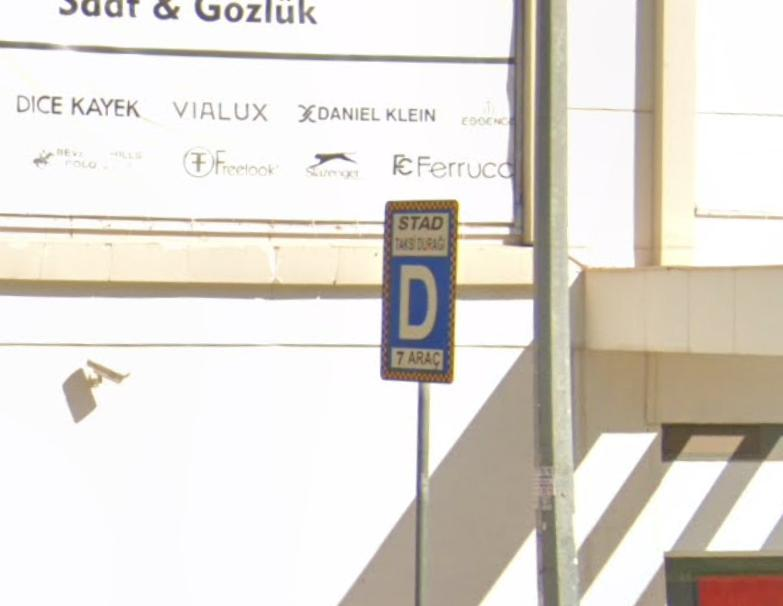station: (390, 256, 447, 349)
